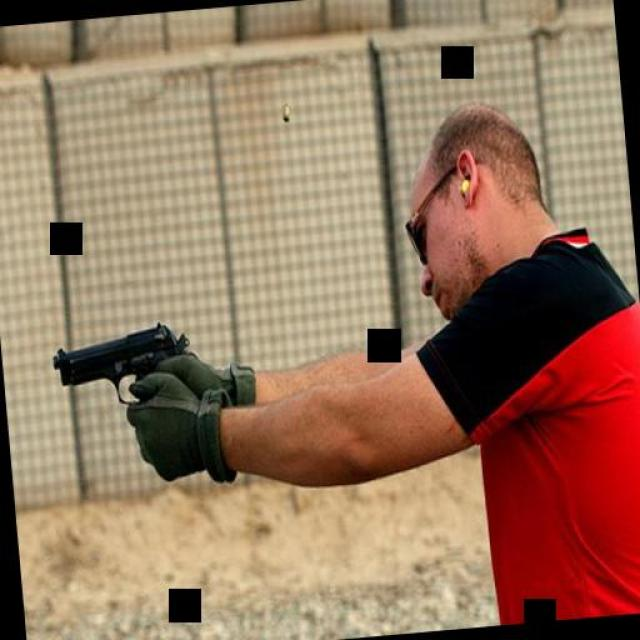gun: (46, 302, 195, 413)
